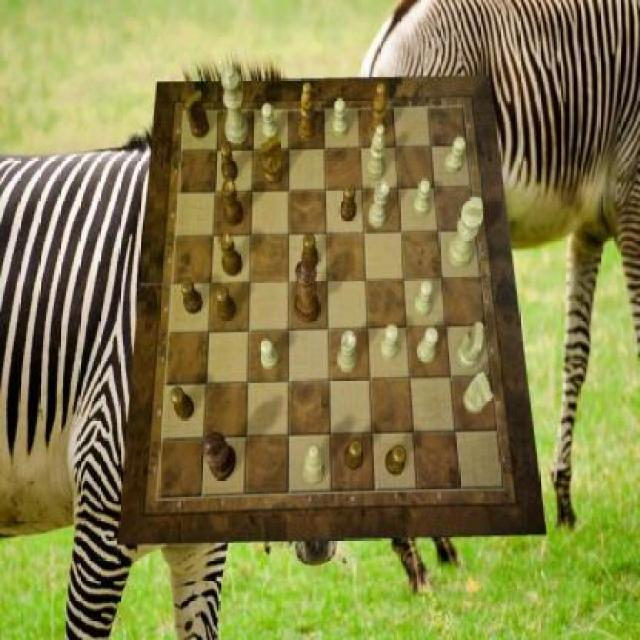bishop: (368, 83, 387, 142), (299, 83, 316, 142)
black-bishop: (203, 432, 237, 480)
black-king: (186, 90, 211, 138), (260, 136, 283, 184)
black-knight: (171, 388, 195, 422), (181, 279, 204, 313), (217, 286, 237, 322), (385, 444, 407, 476), (220, 143, 238, 182), (302, 232, 319, 270), (340, 185, 357, 222), (344, 440, 364, 471)
black-pawn: (294, 260, 320, 324)
black-queen: (221, 180, 244, 228), (219, 231, 243, 276)
black-rook: (366, 125, 386, 179), (303, 444, 326, 484)
white-bishop: (448, 197, 484, 269)
white-king: (463, 371, 494, 413), (457, 323, 484, 369)
white-knight: (445, 135, 467, 173), (417, 328, 439, 362), (414, 282, 433, 318), (263, 103, 280, 143), (380, 325, 399, 359), (414, 179, 431, 216), (260, 338, 279, 371), (334, 98, 349, 138)
white-pawn: (222, 66, 249, 145)
white-queen: (369, 180, 390, 228), (337, 331, 357, 373)
